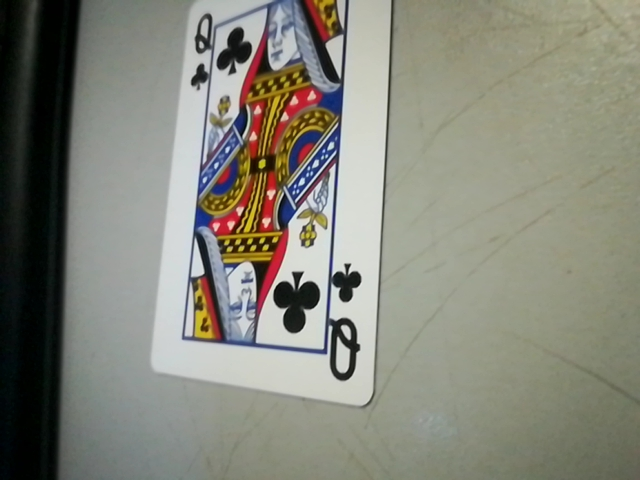mh q: (321, 258, 371, 397)
